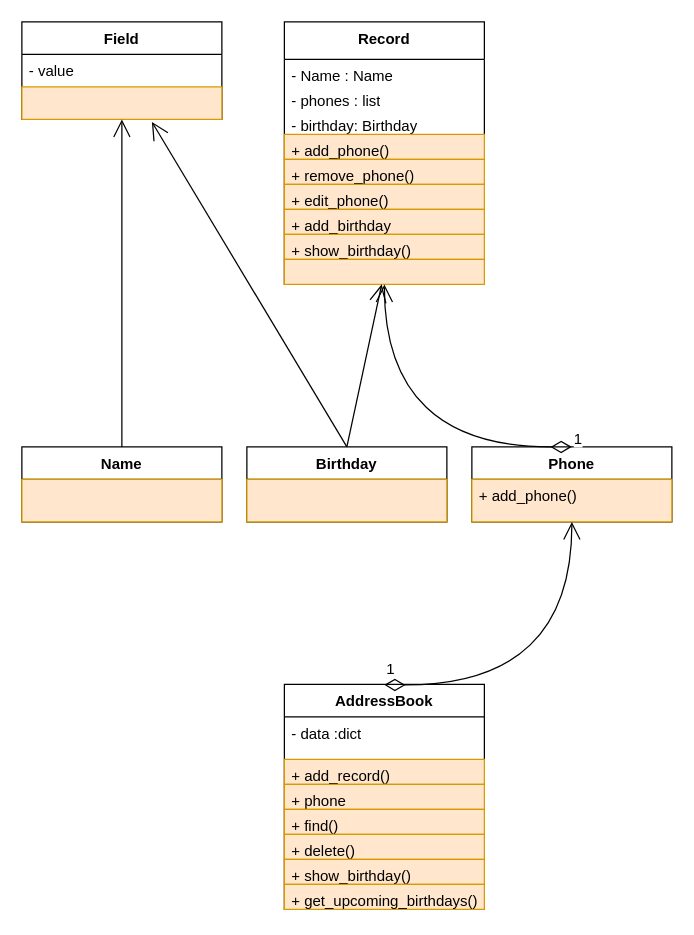
This 694x935 diagram has some shape labels left out. The shapes that lost their labels are listed below. From the top down, each one's centre as x and y in pixels, then its label:
At point (121, 102): "+ __(str)__()".
At point (383, 271): "+ __str__()".
At point (121, 500): "+ add_name()".
At point (346, 500): "+ add_birthday()".
